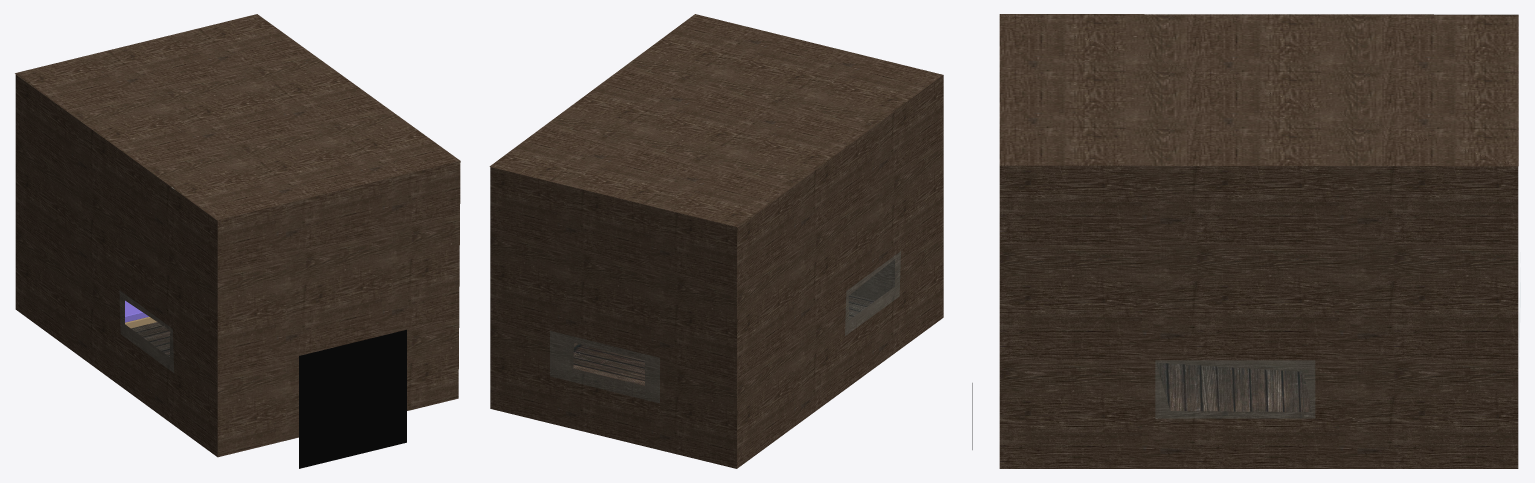
The model's file is home_interior.glb.
3 renders of one model, left to right at view 1: azimuth 30°, elevation 25°; view 2: azimuth 150°, elevation 25°; view 3: azimuth 270°, elevation 25°, orthographic. The views are drawn at different scales.
Parts seen in each view (by area): view 1: Cube, Plane, Plane.001, bed2; view 2: Cube, Plane.003, Plane.001; view 3: Cube, Plane.002.
Boxes of the visible parts, bbox=[...] form: Cube: bbox=[15, 14, 460, 457]; Plane: bbox=[299, 329, 406, 468]; Plane.001: bbox=[120, 291, 173, 371]; bed2: bbox=[125, 300, 156, 328]; Cube: bbox=[489, 14, 943, 468]; Plane.003: bbox=[550, 331, 659, 402]; Plane.001: bbox=[845, 252, 900, 334]; Cube: bbox=[999, 14, 1518, 468]; Plane.002: bbox=[1156, 361, 1314, 417].
Size of the model in its own units: 6.45 by 6.51 by 9.76.
8 materials, 2 textured.
